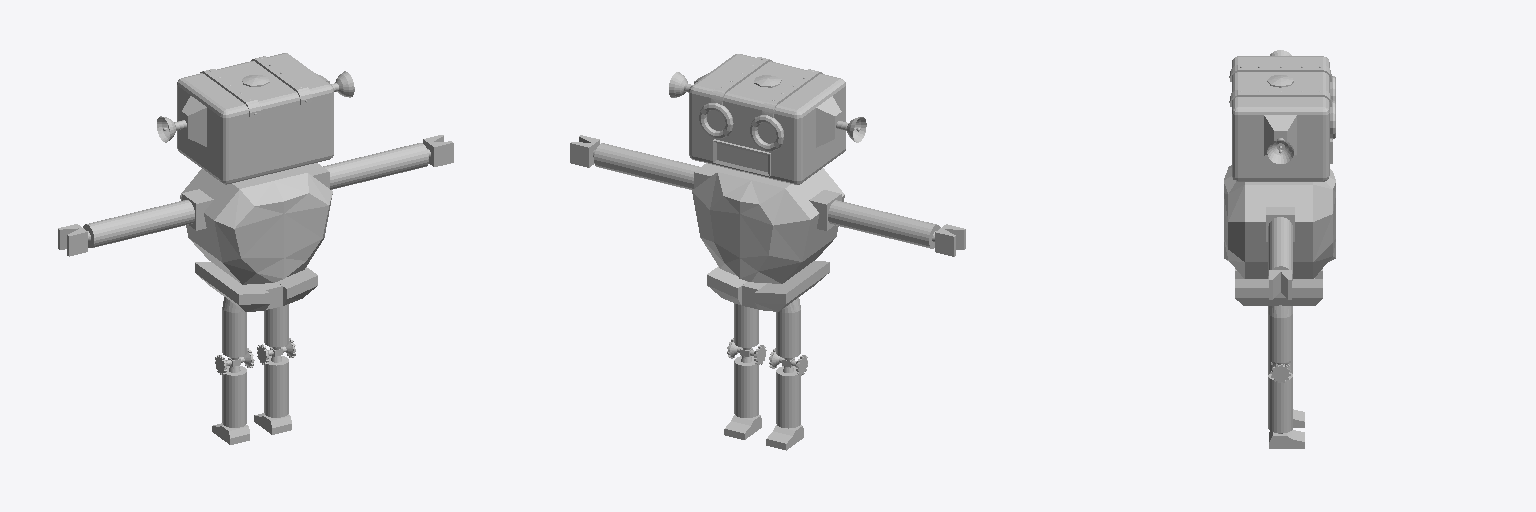
File: Robot_enemy_01 _ver02.obj
The picture shows the model from 3 angles: view 1: azimuth 30°, elevation 25°; view 2: azimuth 150°, elevation 25°; view 3: azimuth 270°, elevation 25°; orthographic projection.
Parts seen in each view (by area): view 1: BaseObj.obj.002; view 2: BaseObj.obj.002; view 3: BaseObj.obj.002.
Part boxes in pixels (x1,y1,x2,y2): BaseObj.obj.002: (58, 53, 453, 444); BaseObj.obj.002: (570, 54, 965, 450); BaseObj.obj.002: (1224, 50, 1335, 448).
Size of the model in its own units: 5227 by 4617 by 1330.